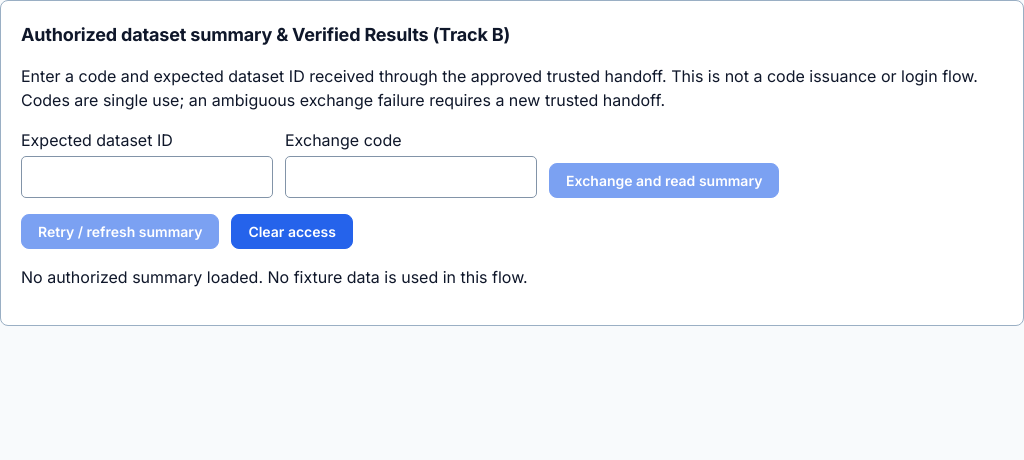
it: does not automatically retry an exchange failure
The image size is (1024, 460).
Type "dataset-a" into the field labelled "Expected dataset ID".
click(147, 177); type("dataset-a")  # box [21,156,273,198]
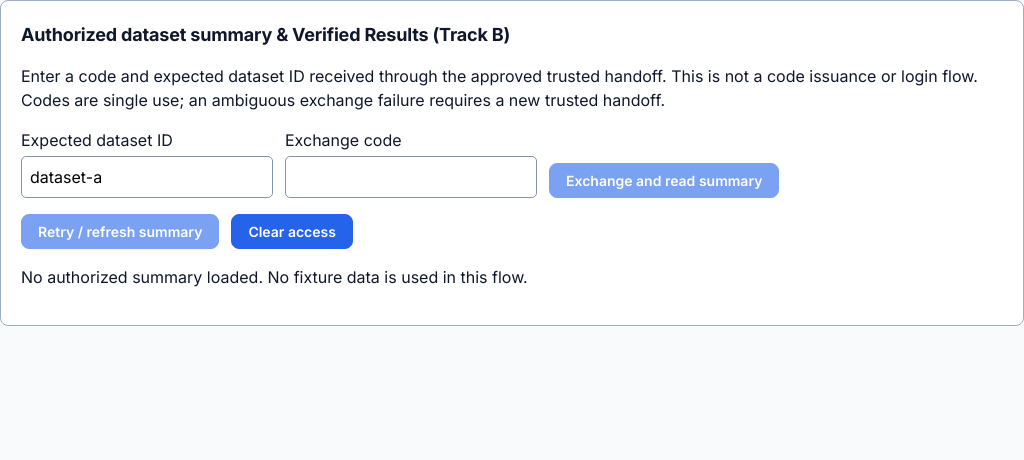
Type "trusted-code" into the password field labelled "Exchange code".
click(411, 177); type("trusted-code")  # box [285,156,537,198]
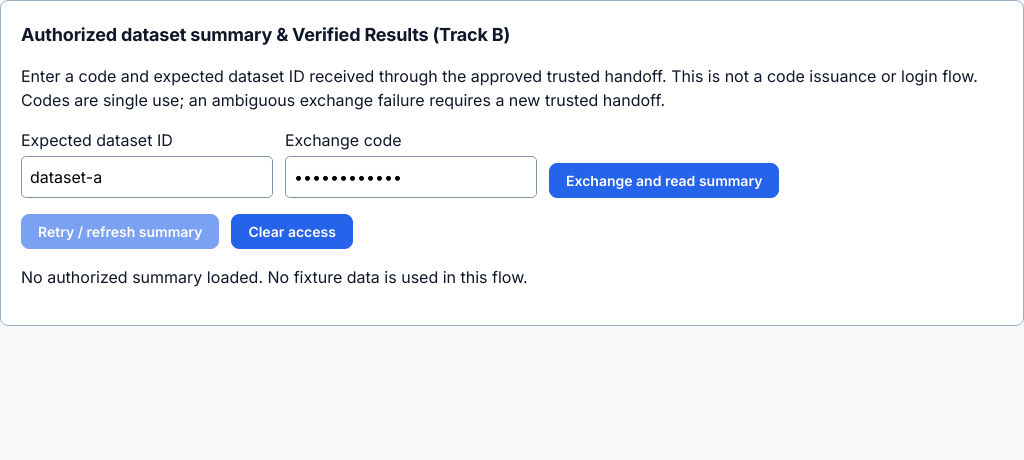
Click the button "Exchange and read summary".
click(664, 180)  # box [549,163,779,198]
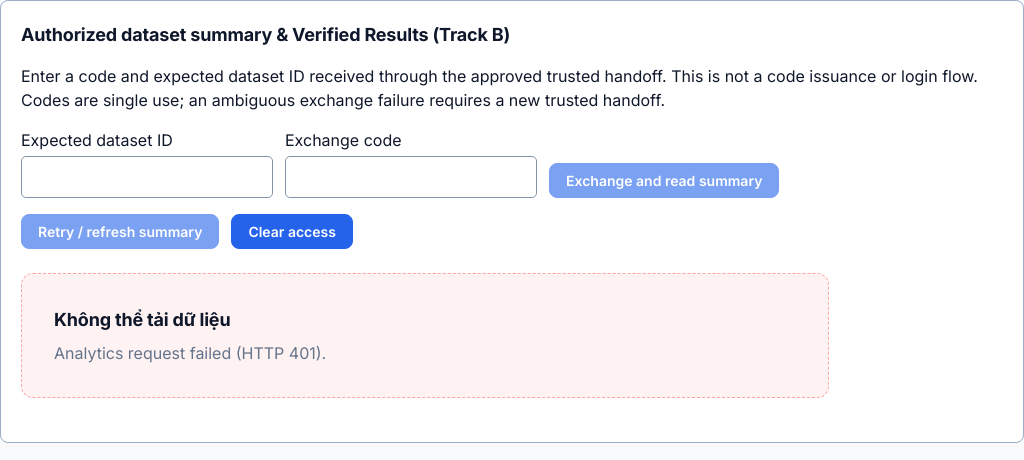
Expected: the button "Retry / refresh summary" is disabled, [21,214,219,249]
Expected: the message "Không thể tải dữ liệu Analytics request failed (HTTP 401)." is shown, [21,273,828,398]
